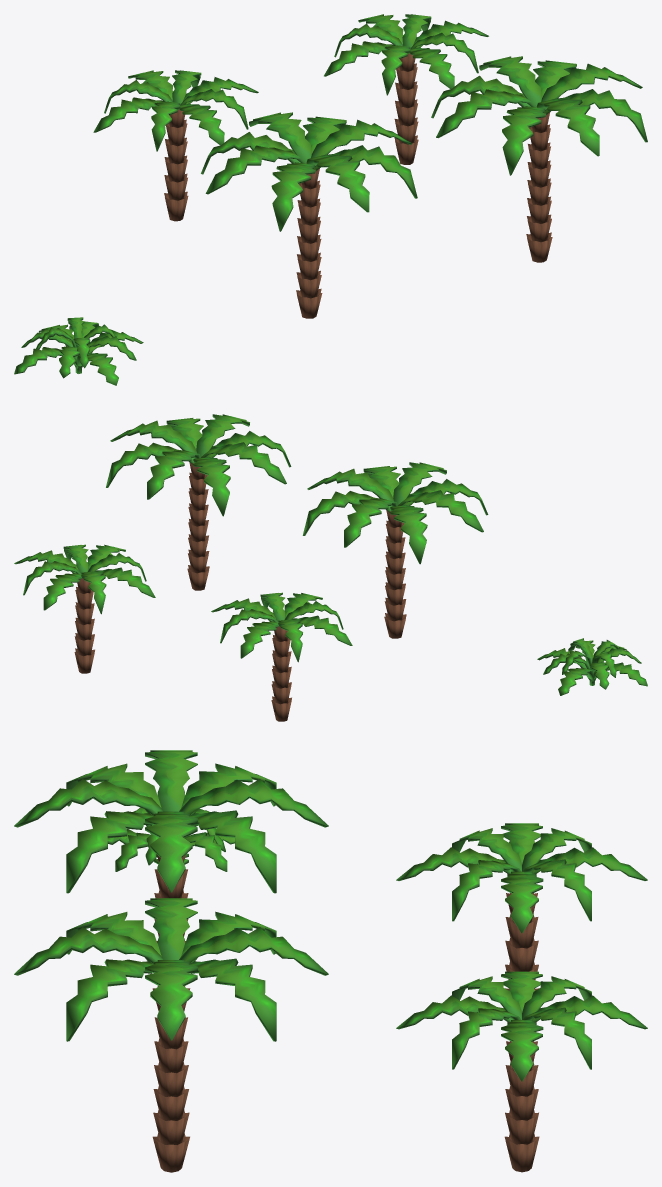
File: Tropical Vegetation_test.dae
3 views of the same model, one above another, from view 1: azimuth 30°, elevation 25°; view 2: azimuth 150°, elevation 25°; view 3: azimuth 270°, elevation 25° (orthographic). The views are drawn at different scales.
Visible parts, largest first — view 1: Cube.010, Cube.002, Cube, Cube.001, Cube.003; view 2: Cube.002, Cube.010, Cube.001, Cube, Cube.003; view 3: Cube.002, Cube.010, Cube.001, Cube, Cube.003.
Part boxes in pixels (<box>): Cube.010: <box>201,112,417,318</box>; Cube.002: <box>431,56,647,262</box>; Cube: <box>93,70,258,221</box>; Cube.001: <box>324,14,488,164</box>; Cube.003: <box>14,317,143,385</box>; Cube.002: <box>106,414,291,590</box>; Cube.010: <box>302,462,488,638</box>; Cube.001: <box>14,544,155,673</box>; Cube: <box>211,592,352,721</box>; Cube.003: <box>537,638,647,695</box>; Cube.002: <box>14,898,328,1172</box>; Cube.010: <box>14,750,328,1011</box>; Cube.001: <box>396,971,647,1172</box>; Cube: <box>396,823,647,990</box>; Cube.003: <box>107,807,234,871</box>.
Bounding box in the file's own units: 54.61 × 36.16 × 14.57.
Materials: 2 (2 with a texture image).
